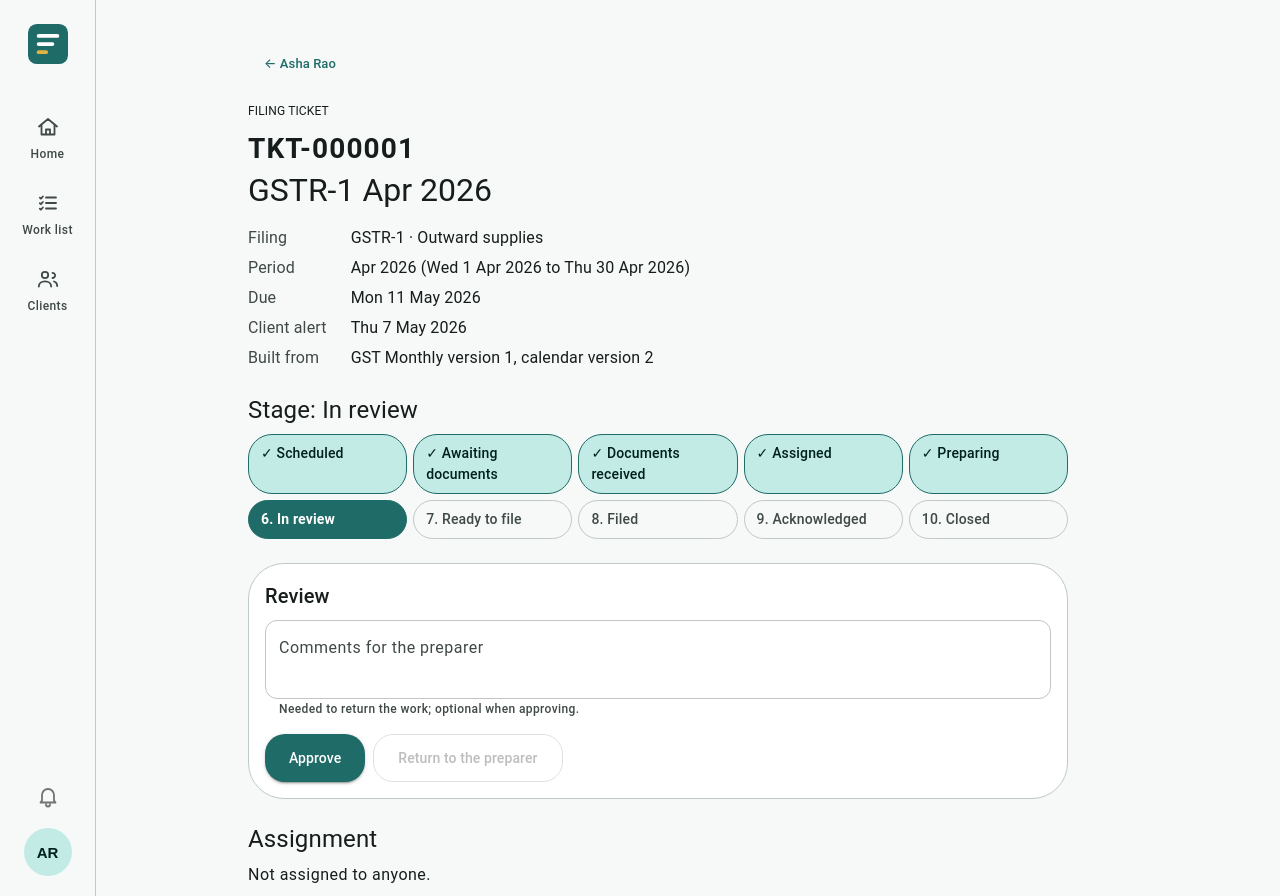
Test case: Ticket page › offers only the allowed moves, and asks why before returning work
expect the button "Approve" is shown: met, box [265,734,365,782]
expect the button "Return to the preparer" is disabled: met, box [373,734,563,782]
Type "Totals do not match" into the text box labelled "Comments for the preparer" at (658, 659), box [279,636,1037,682]
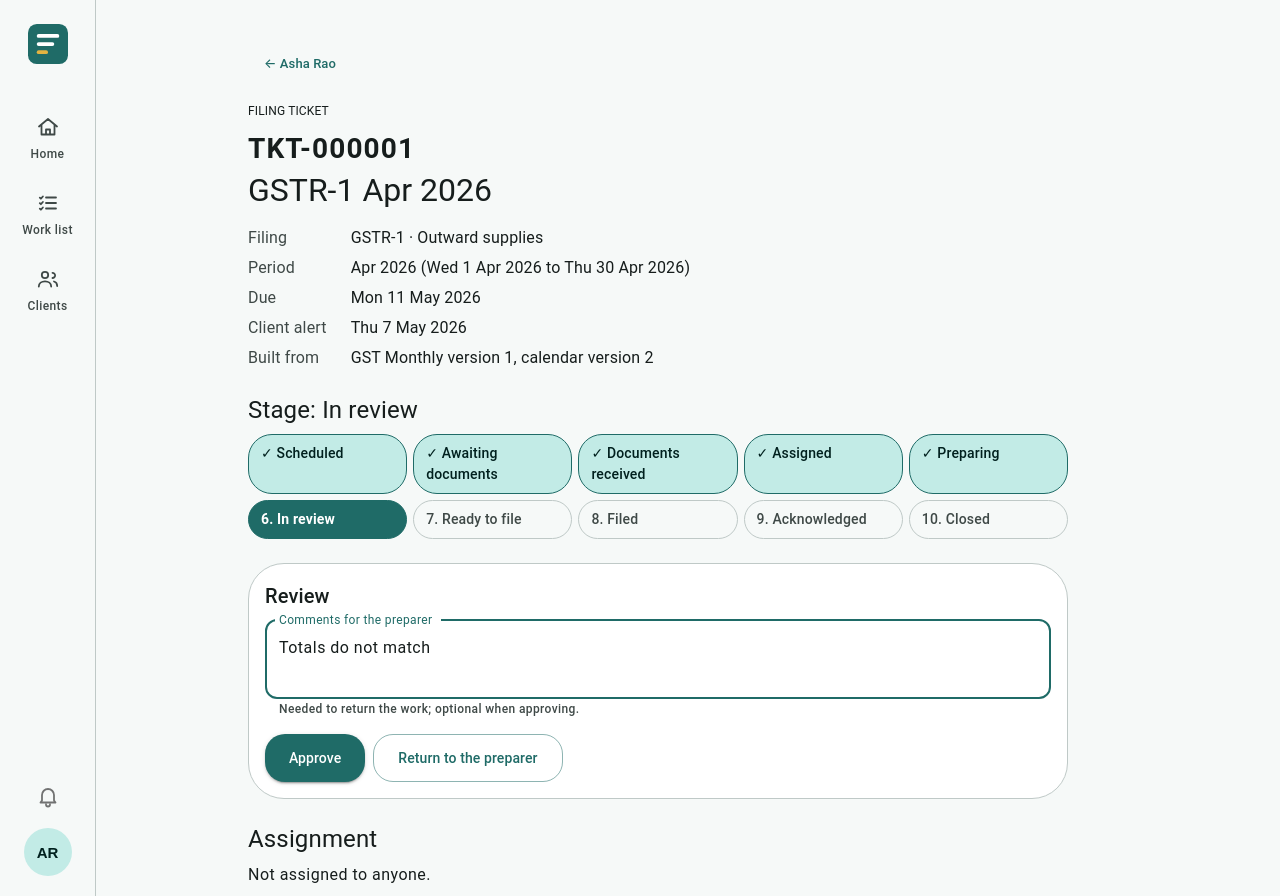
Click the button "Return to the preparer" at (468, 758), box [373,734,563,782]
(page scrolled)
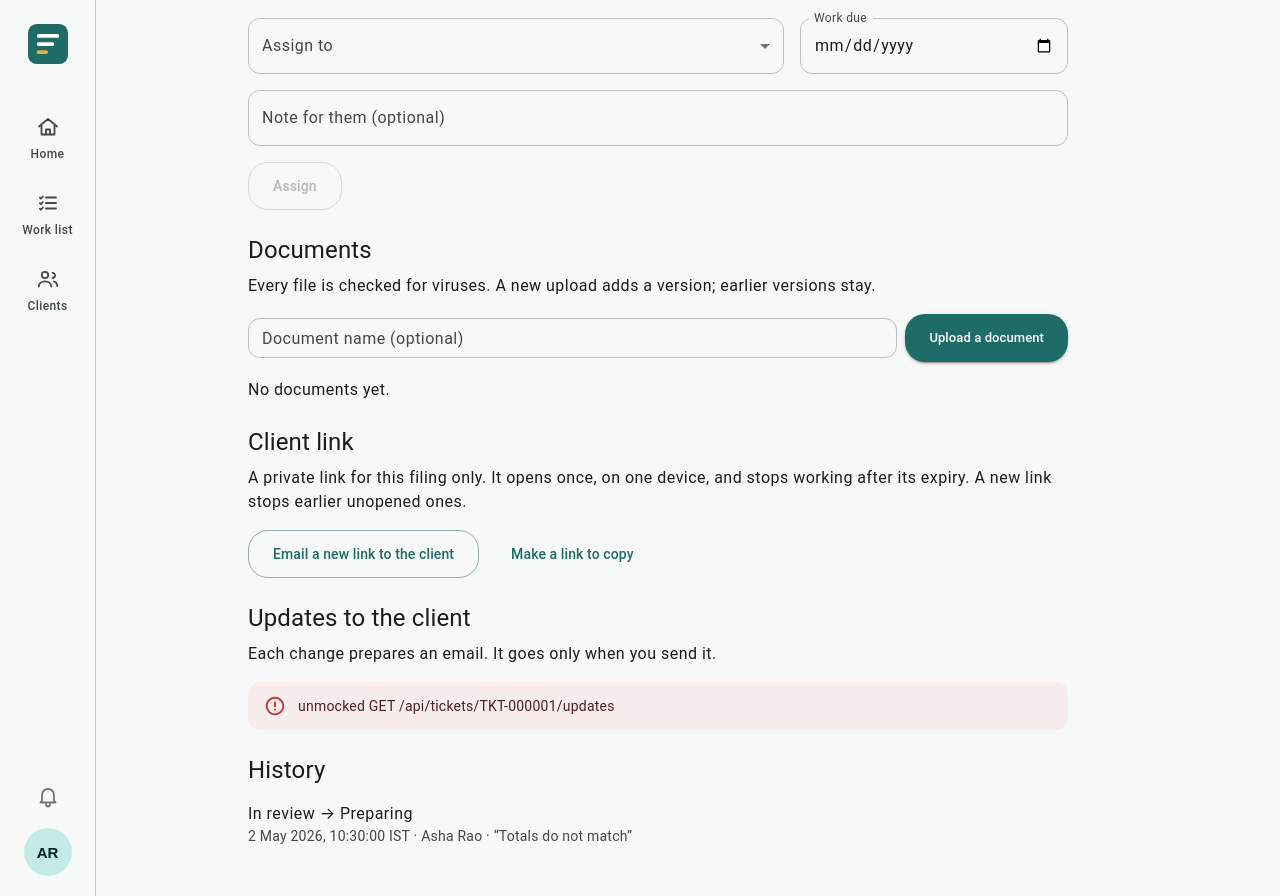
expect the list named "Ticket history" shows "In review → Preparing": met, box [248,804,413,823]
expect the list named "Ticket history" shows "“Totals do not match”": met, box [248,828,632,844]
